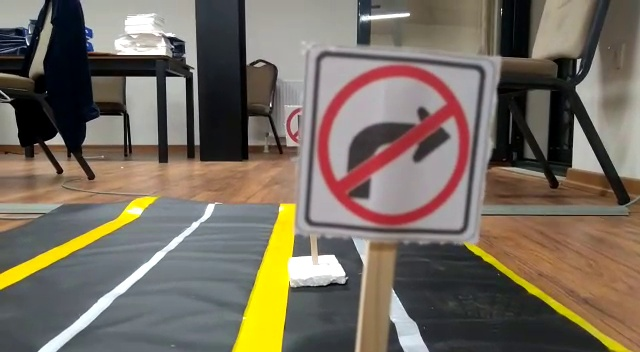saga_donulmez: (313, 52, 473, 231)
